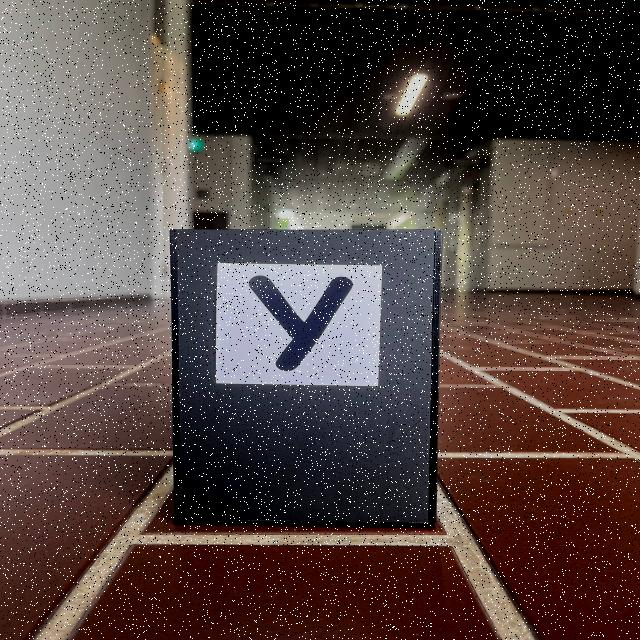Y_id34: (215, 262, 382, 390)
